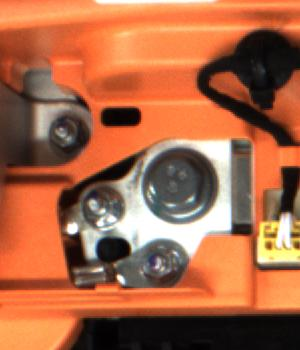nut_b: (136, 147, 225, 223)
screw_s: (141, 246, 177, 282), (44, 115, 79, 151), (82, 187, 113, 221)
